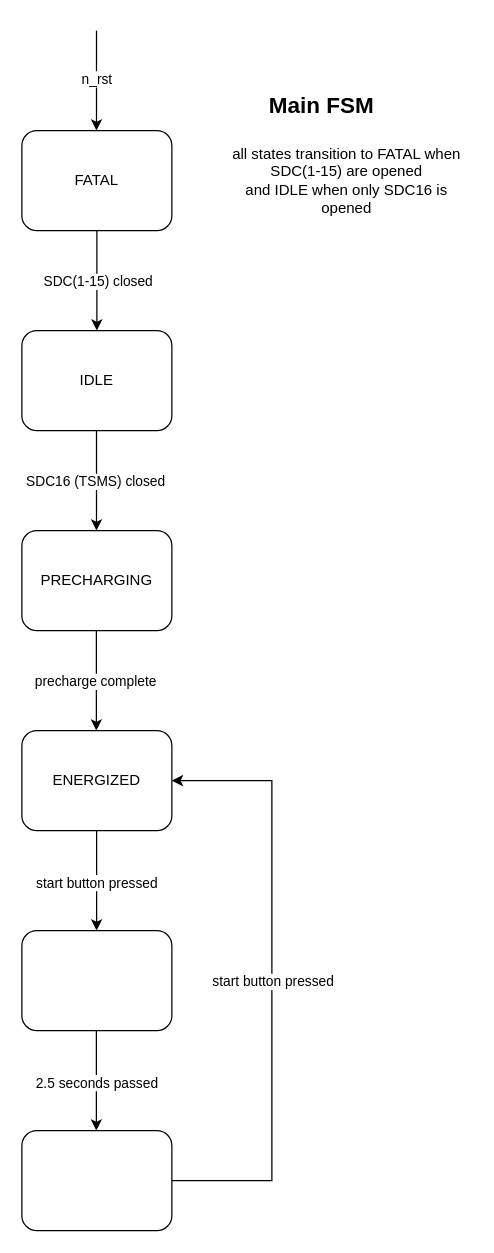
This 494x1253 diagram has some shape labels left out. The shapes that lost their labels are listed below. From the top down, each one's centre as x and y in pixels, then its label:
At (x=96, y=980): "BUZZING".
At (x=96, y=1180): "READY2DRIVE".
